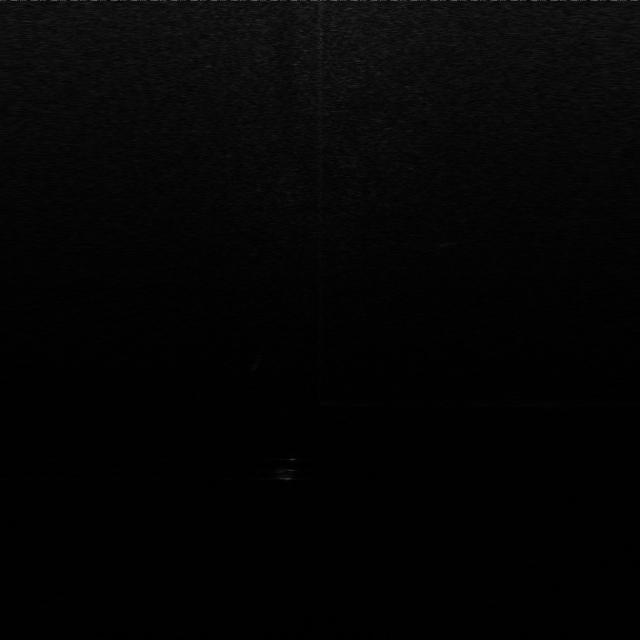circle cage: (273, 450, 302, 484)
